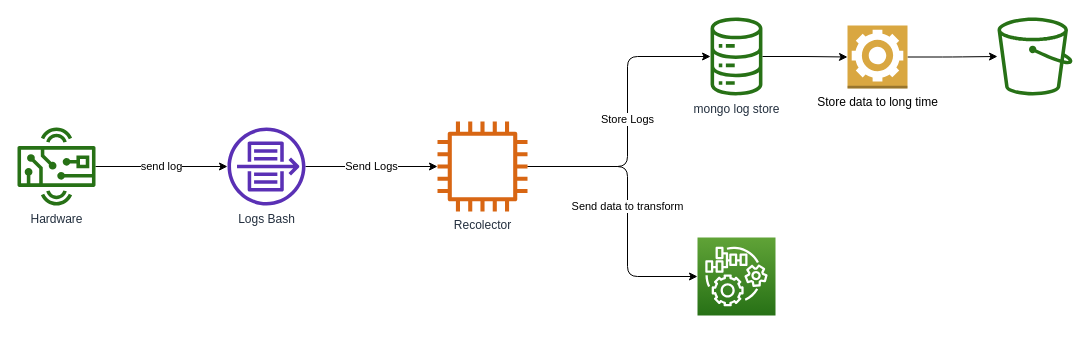
The diagram is 1089 pixels wide and 353 high, and some of its shapes have lost their labels. The box of each missing label's shape, as (x1, y1, x2, y2) in pixels:
Bucket: (997, 17, 1072, 95)
Graph Data: (696, 236, 776, 316)
